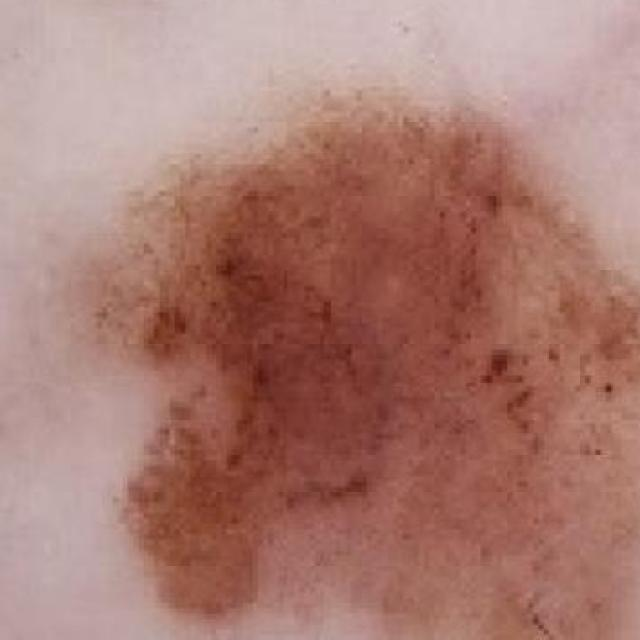MEL: (69, 79, 640, 640)
